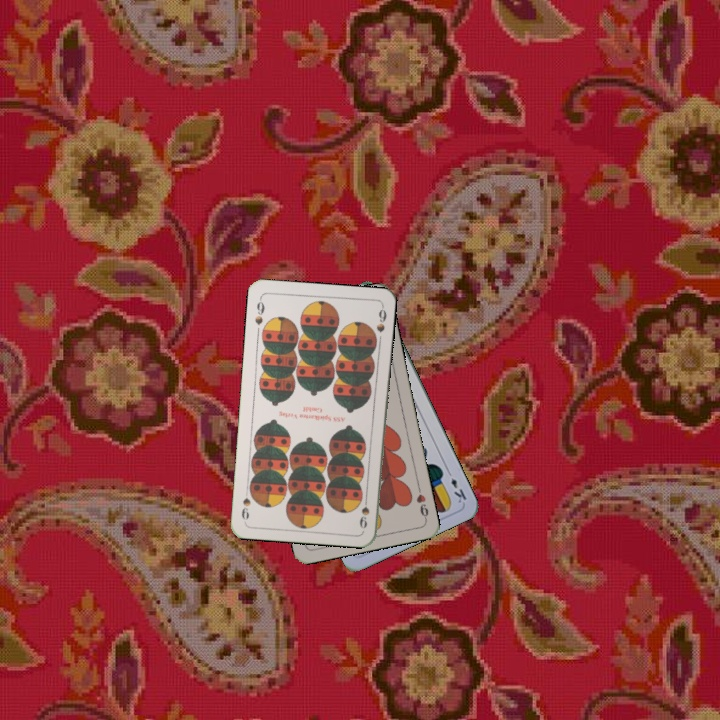EK: (443, 466, 469, 506)
H9: (412, 482, 431, 523)
S9: (355, 491, 372, 531), (251, 294, 267, 328)
